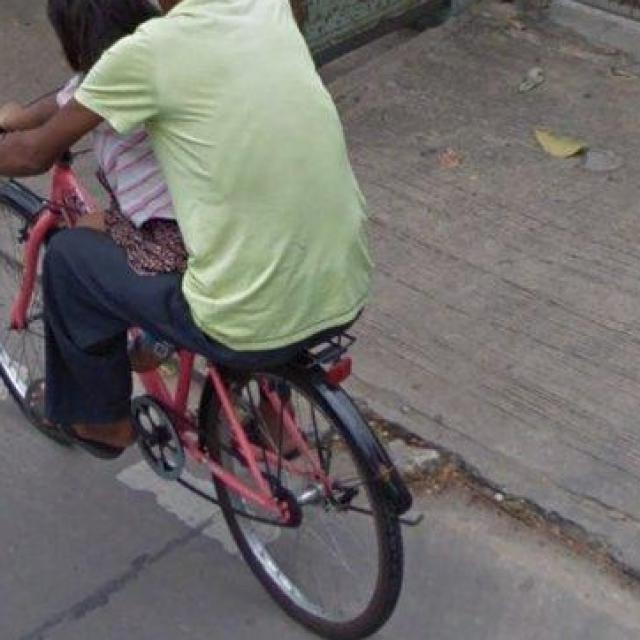bicycle: (0, 59, 509, 637)
